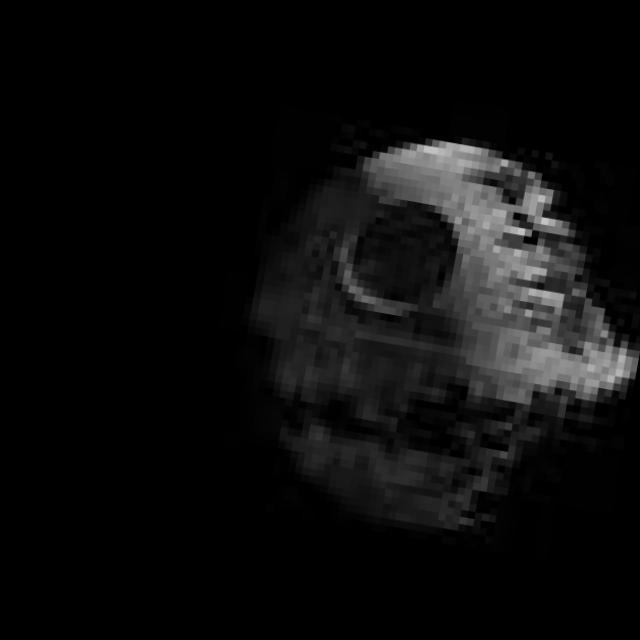Death Star: (209, 97, 640, 570)
